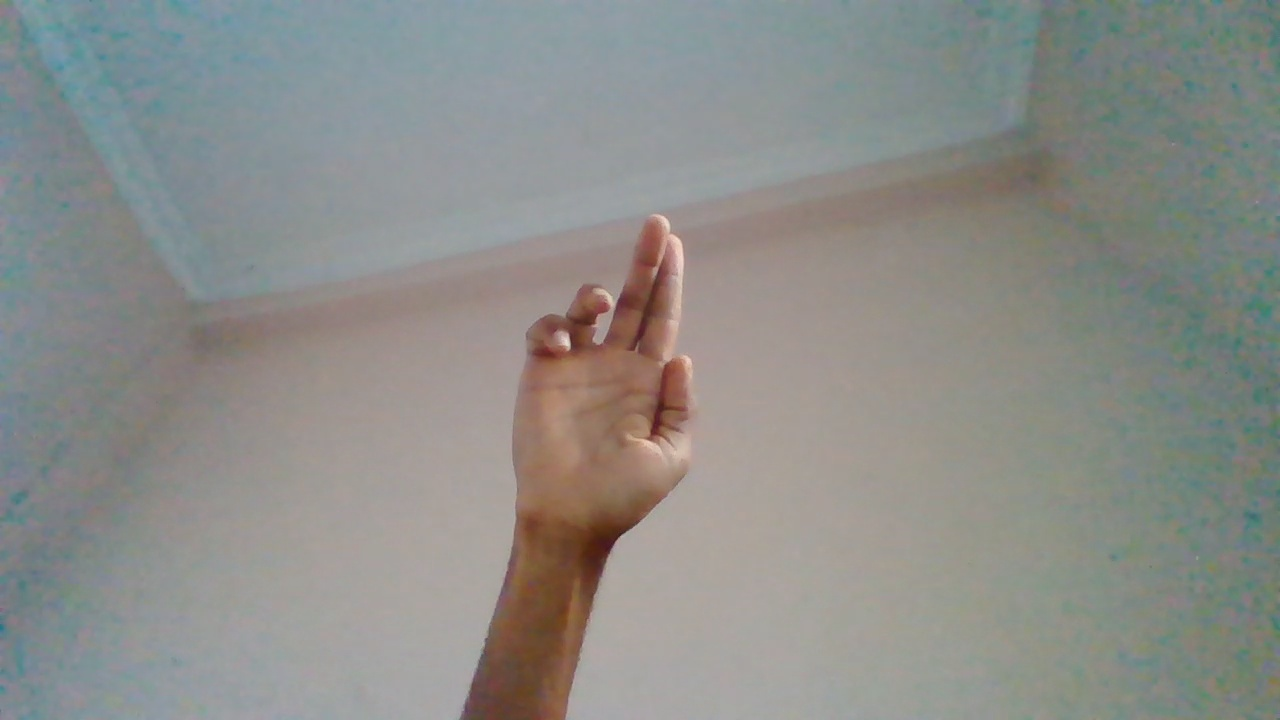gne: (512, 214, 699, 632)
